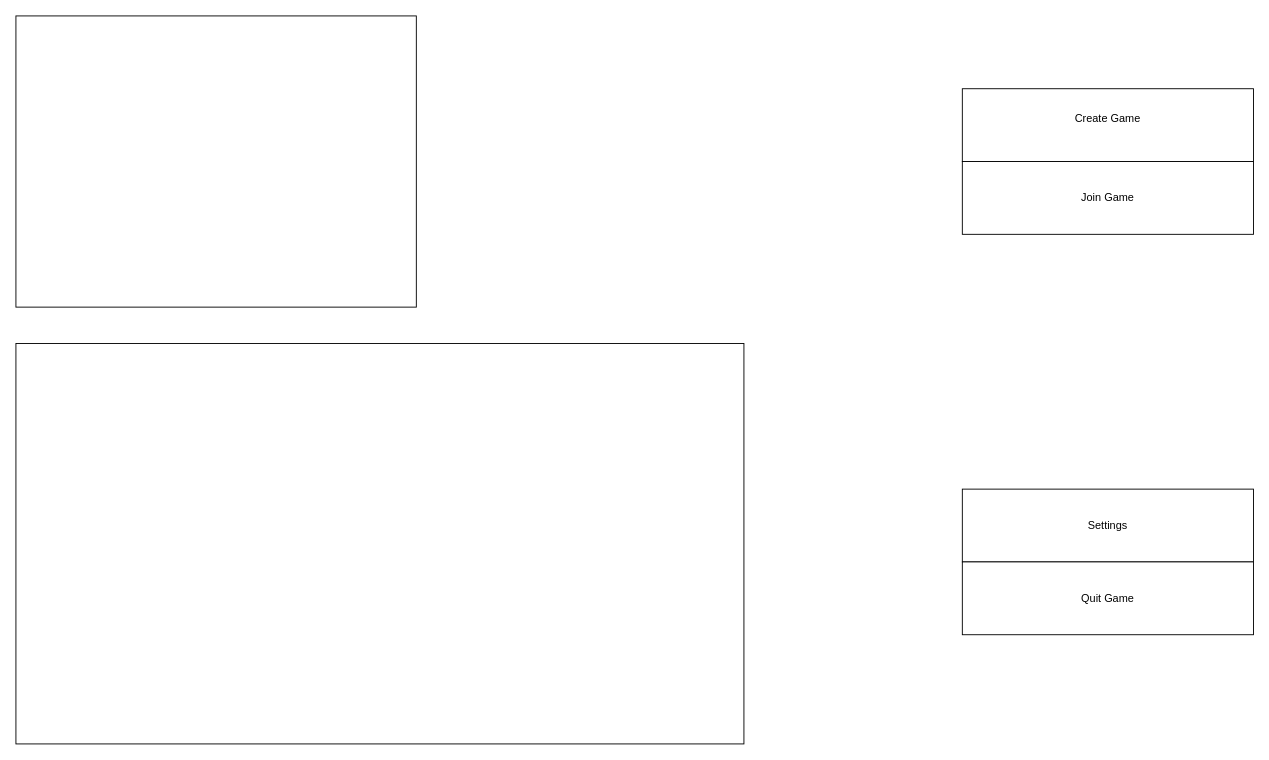
Image size: 1269x760. Some labels were removed from this diagram. Here are the shapes that lost their labels. From the top down, the centre of each, then its label:
the point at 215,161: Space for Title
the point at 379,543: Space for Truck/Backdrop
